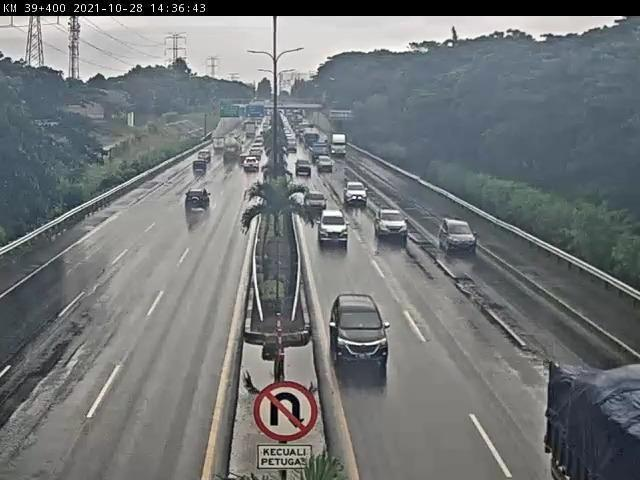car: (327, 269, 375, 333), (372, 204, 403, 235), (180, 198, 203, 226), (433, 213, 458, 238), (343, 180, 365, 202), (324, 207, 339, 235), (305, 186, 322, 205), (240, 161, 259, 175), (298, 159, 312, 176), (191, 166, 205, 178), (198, 154, 212, 165), (315, 156, 327, 167), (251, 153, 263, 161)
truck: (513, 331, 634, 459), (329, 137, 346, 154), (227, 140, 241, 160)
